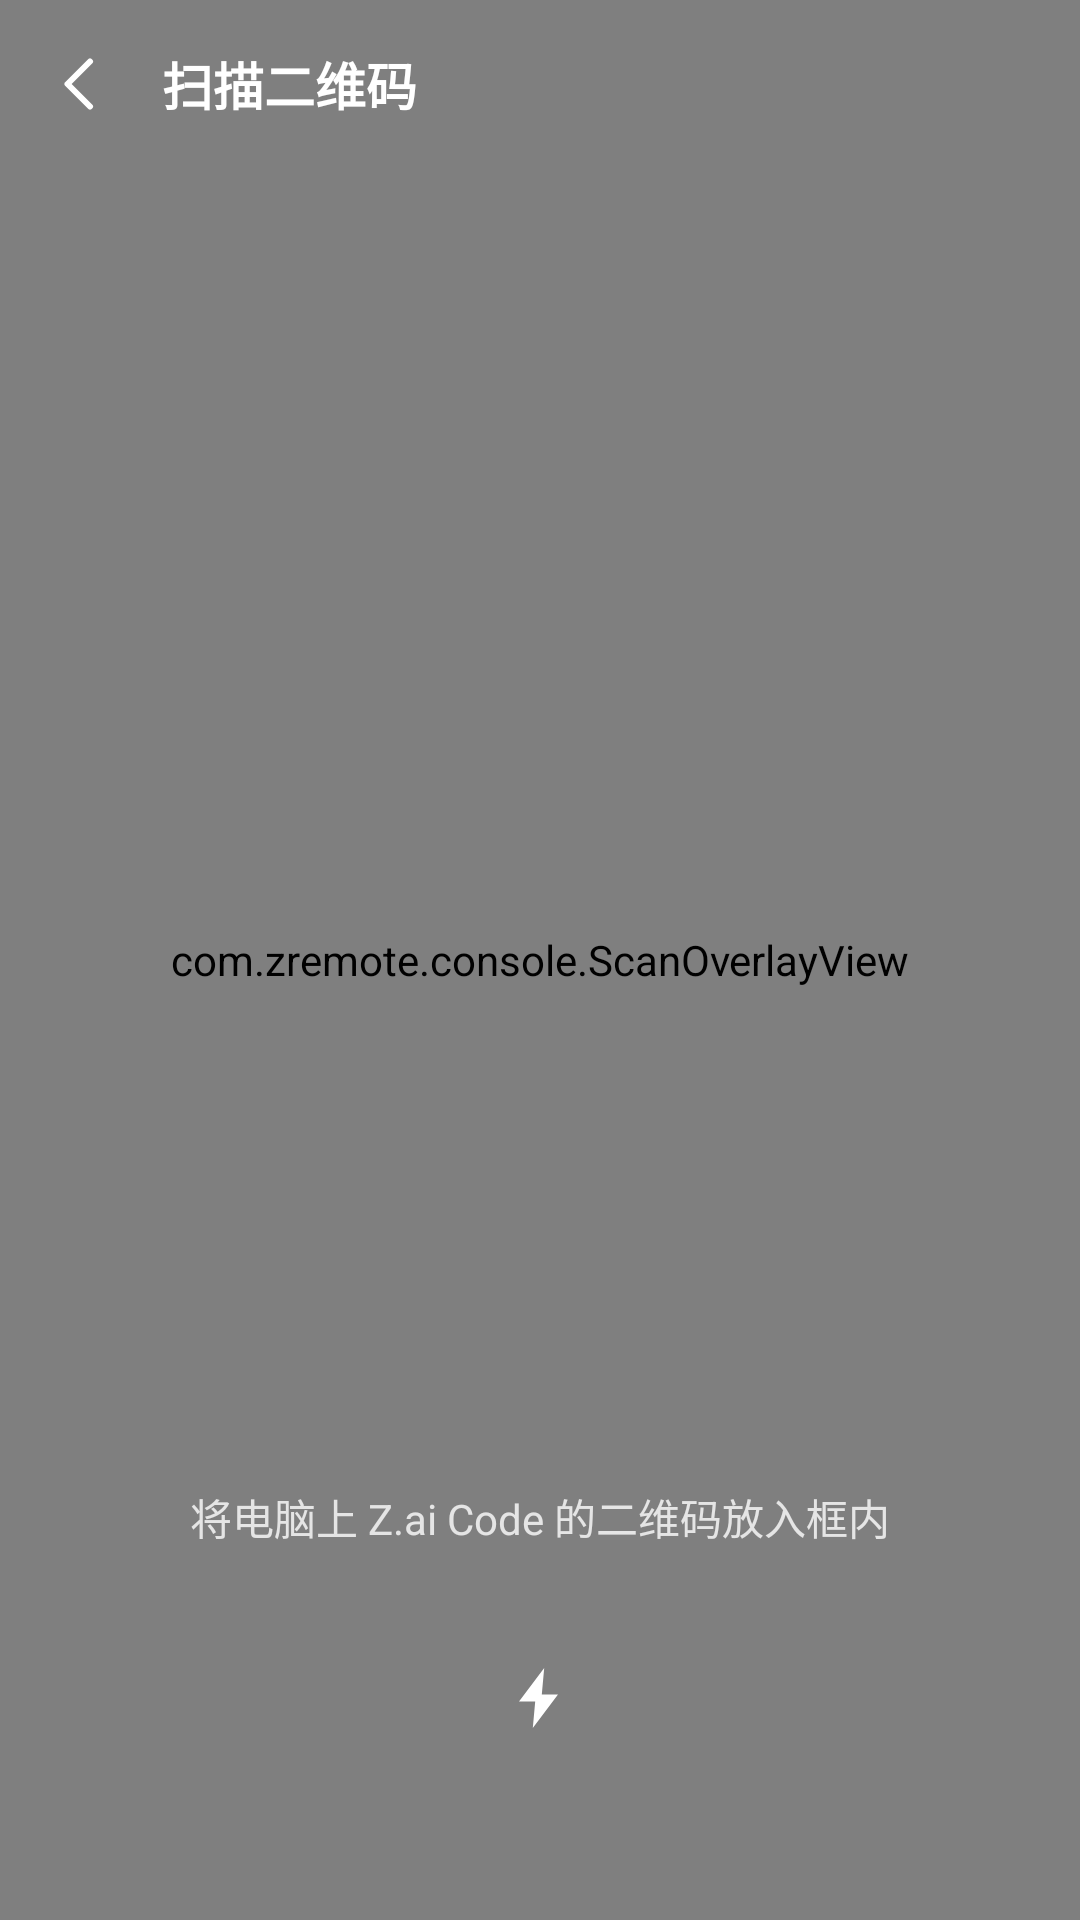

Icons on this 1080 x 1920 Android screen, each with its box as box=[x1, y1, x2, y2]:
手电筒: box=[519, 1669, 558, 1727]
返回: box=[64, 58, 93, 110]
